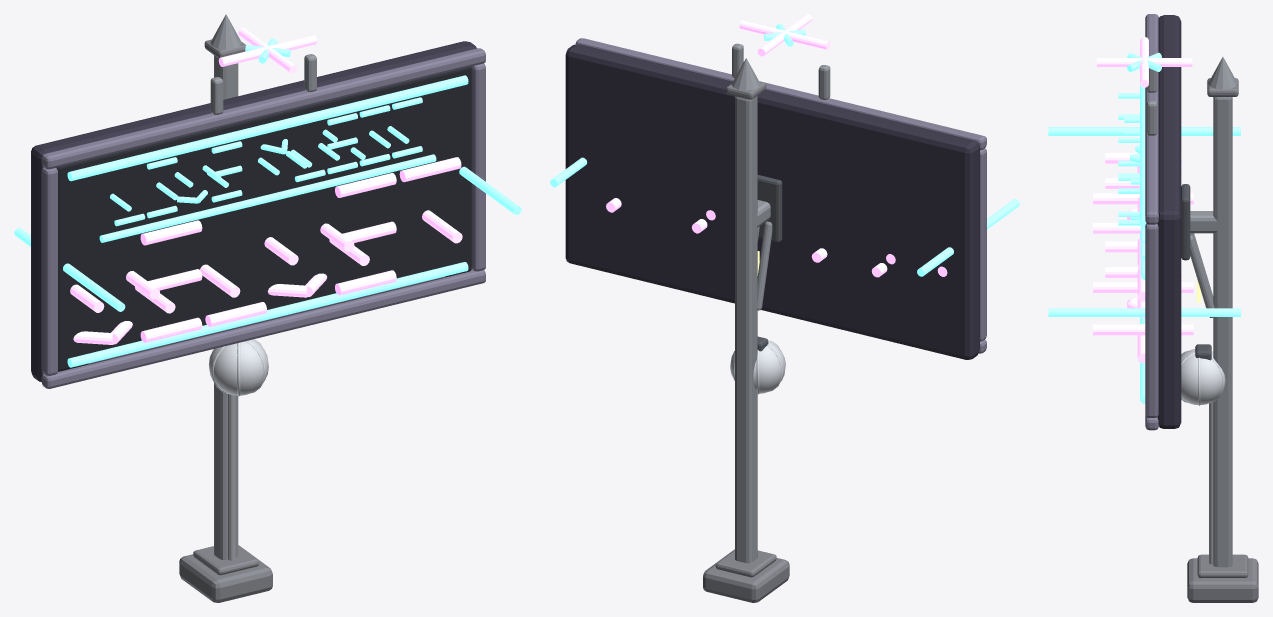
Rendered from sign_club.glb.
3 renders of one model, left to right at view 1: azimuth 30°, elevation 25°; view 2: azimuth 150°, elevation 25°; view 3: azimuth 270°, elevation 25°, orthographic. The views are drawn at different scales.
Parts seen in each view (by area): view 1: sign_club_face, sign_club_rail_top, sign_club_plate, sign_club_rail_bottom, sign_club_border_s2, sign_club_mast_0, sign_club_border_s0, sign_club_rail_l, sign_club_rail_r, sign_club_rule_s0, sign_club_foot_0, sign_club_discoball (+12 smaller); view 2: sign_club_plate, sign_club_mast_0, sign_club_rail_top, sign_club_foot_0, sign_club_rail_l, sign_club_discoball, sign_club_stiffener_0, sign_club_footplate_0, sign_club_brace_0a, sign_club_crest_h_s0, sign_club_border_s3; view 3: sign_club_plate, sign_club_mast_0, sign_club_rail_r, sign_club_foot_0, sign_club_rail_top, sign_club_discoball, sign_club_border_s1, sign_club_border_s3, sign_club_footplate_0, sign_club_border_s2, sign_club_conduit, sign_club_main_c5s1 (+15 smaller).
Boxes of the visible parts, x1,y1,x2,y2 form: sign_club_face: [56, 66, 471, 371]; sign_club_rail_top: [41, 48, 485, 169]; sign_club_plate: [31, 41, 476, 381]; sign_club_rail_bottom: [41, 269, 485, 388]; sign_club_border_s2: [67, 75, 468, 181]; sign_club_mast_0: [214, 55, 238, 559]; sign_club_border_s0: [67, 262, 468, 367]; sign_club_rail_l: [41, 167, 57, 375]; sign_club_rail_r: [471, 63, 485, 271]; sign_club_rule_s0: [99, 154, 436, 242]; sign_club_foot_0: [179, 545, 272, 602]; sign_club_discoball: [208, 339, 268, 395]; sign_club_plate: [565, 44, 979, 359]; sign_club_mast_0: [735, 96, 757, 563]; sign_club_rail_top: [575, 38, 986, 150]; sign_club_foot_0: [703, 549, 789, 602]; sign_club_rail_l: [980, 148, 986, 341]; sign_club_discoball: [730, 341, 785, 393]; sign_club_stiffener_0: [757, 175, 782, 242]; sign_club_footplate_0: [715, 550, 776, 577]; sign_club_brace_0a: [757, 221, 772, 310]; sign_club_crest_h_s0: [739, 20, 830, 49]; sign_club_border_s3: [917, 199, 1019, 276]; sign_club_plate: [1157, 15, 1181, 428]; sign_club_mast_0: [1213, 97, 1232, 567]; sign_club_rail_r: [1145, 223, 1158, 417]; sign_club_foot_0: [1187, 558, 1258, 602]; sign_club_rail_top: [1145, 14, 1158, 224]; sign_club_discoball: [1181, 349, 1225, 404]; sign_club_border_s1: [1048, 308, 1240, 316]; sign_club_border_s3: [1048, 127, 1240, 135]; sign_club_footplate_0: [1197, 554, 1248, 577]; sign_club_border_s2: [1140, 84, 1146, 229]; sign_club_conduit: [1209, 402, 1213, 564]; sign_club_main_c5s1: [1093, 324, 1193, 335].
Bounding box in the file's own units: 3.19 × 3.96 × 1.41.
